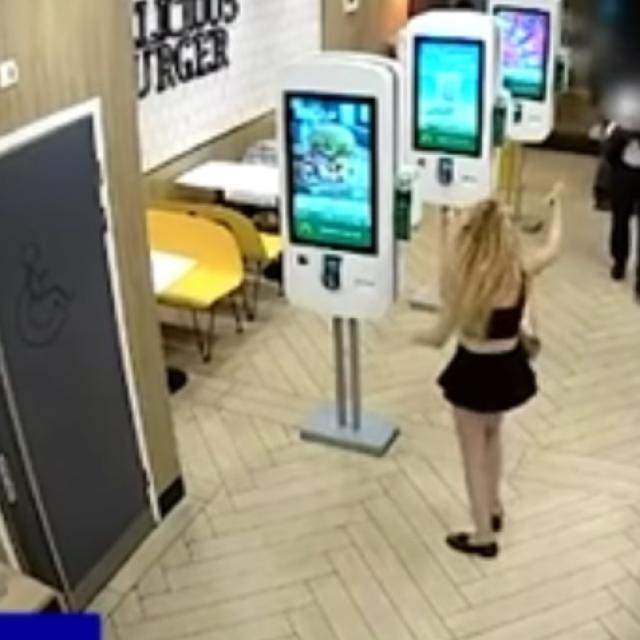person: (419, 183, 561, 556), (603, 123, 639, 279), (633, 254, 639, 297), (637, 246, 639, 250)
